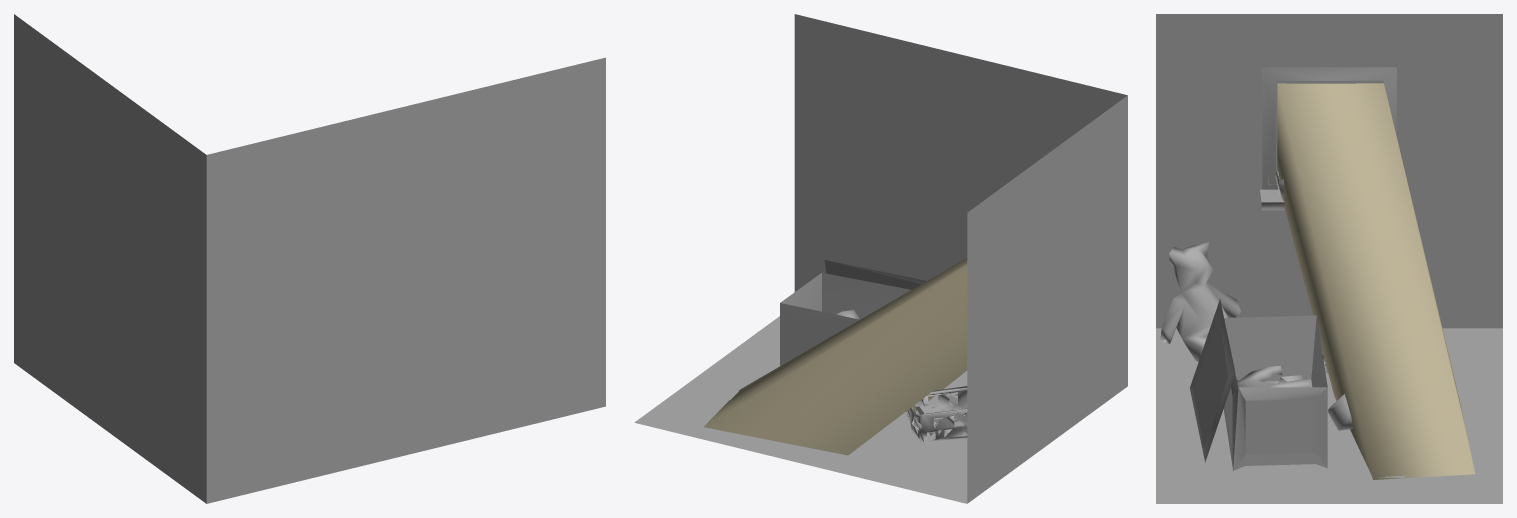
File: Toy Box Scene_LOD3.fbx
3 renders of one model, left to right at view 1: azimuth 30°, elevation 25°; view 2: azimuth 150°, elevation 25°; view 3: azimuth 270°, elevation 25°, orthographic. The views are drawn at different scales.
Visible parts, largest first — view 1: Wall1, Wall2, WallTrim1, WallTrim2; view 2: Wall1, Wall2, Lightbeam2, Floor, Box_Base, Basket1, Rug, Box_Lid; view 3: Wall2, Lightbeam2, Floor, Box_Base, Rug, Bear, WindowFrame, Box_Lid, SpaceDogRetop, Ball1, WindowSil.
Part boxes in pixels (left/top/right/bottom): Wall1: left=206, top=57, right=605, bottom=503; Wall2: left=14, top=14, right=206, bottom=503; WallTrim1: left=216, top=393, right=605, bottom=488; WallTrim2: left=14, top=350, right=199, bottom=485; Wall1: left=794, top=14, right=1127, bottom=291; Wall2: left=967, top=95, right=1127, bottom=503; Lightbeam2: left=703, top=258, right=967, bottom=455; Floor: left=634, top=316, right=967, bottom=503; Box_Base: left=780, top=273, right=910, bottom=365; Basket1: left=906, top=386, right=967, bottom=442; Rug: left=726, top=364, right=967, bottom=460; Box_Lid: left=824, top=260, right=926, bottom=289; Wall2: left=1156, top=14, right=1502, bottom=328; Lightbeam2: left=1277, top=83, right=1475, bottom=479; Floor: left=1156, top=328, right=1502, bottom=503; Box_Base: left=1223, top=315, right=1327, bottom=470; Rug: left=1170, top=350, right=1404, bottom=477; Bear: left=1160, top=242, right=1240, bottom=361; WindowFrame: left=1262, top=67, right=1396, bottom=189; Box_Lid: left=1189, top=299, right=1235, bottom=462; SpaceDogRetop: left=1237, top=365, right=1309, bottom=387; Ball1: left=1328, top=394, right=1352, bottom=430; WindowSil: left=1260, top=189, right=1284, bottom=210.
Size of the model in its own units: 217 by 184 by 182.
